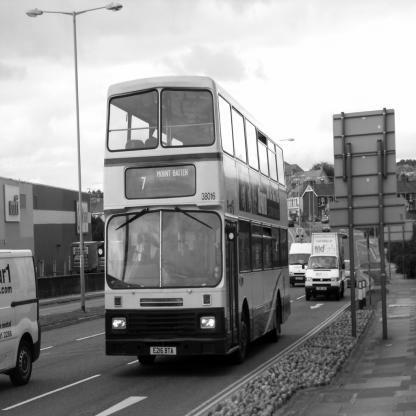bus: (92, 67, 305, 371)
truck: (309, 226, 354, 303)
